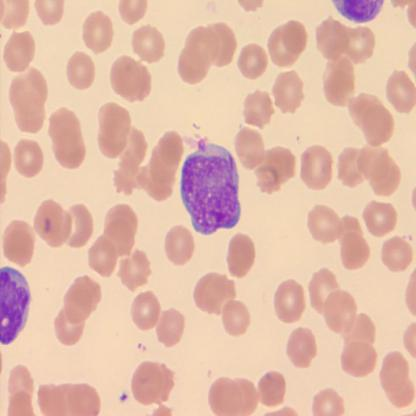Blast: (178, 137, 243, 237)
